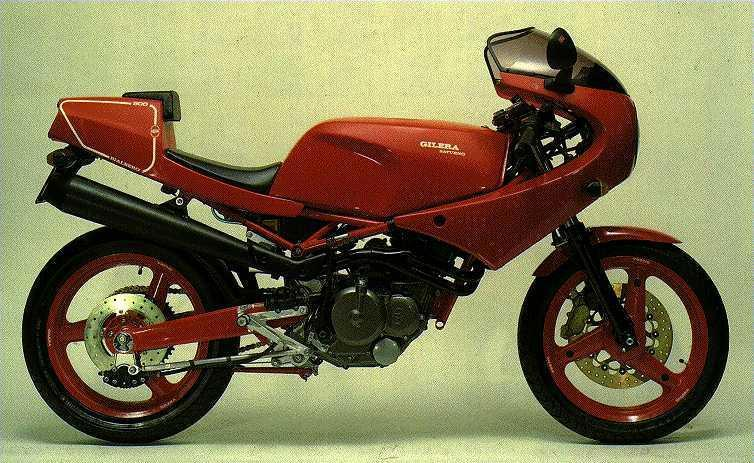motorcycle: (1, 14, 752, 455)
